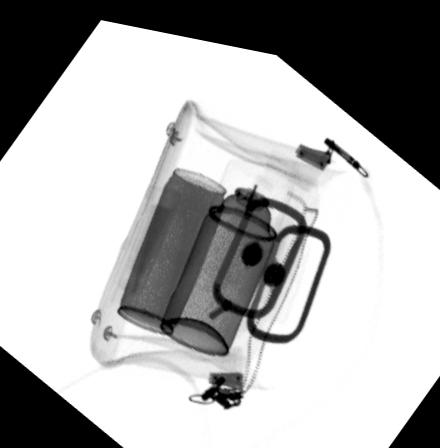Sprayer: (156, 146, 295, 348)
